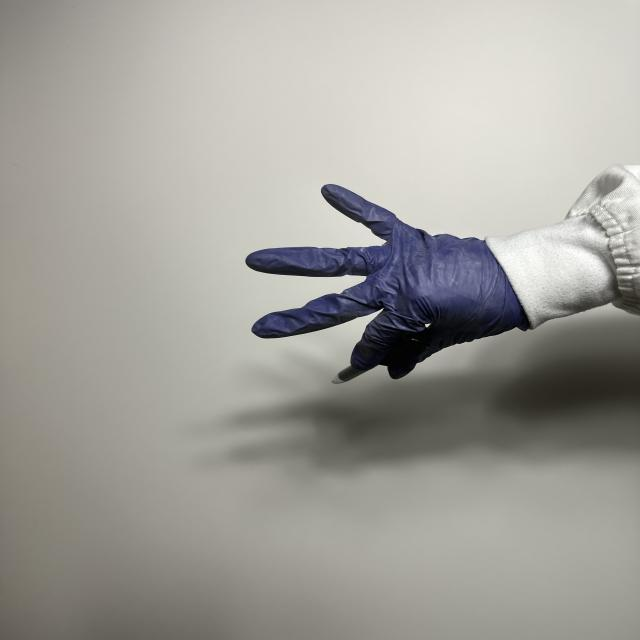gloves_contaminated: (246, 184, 529, 379)
